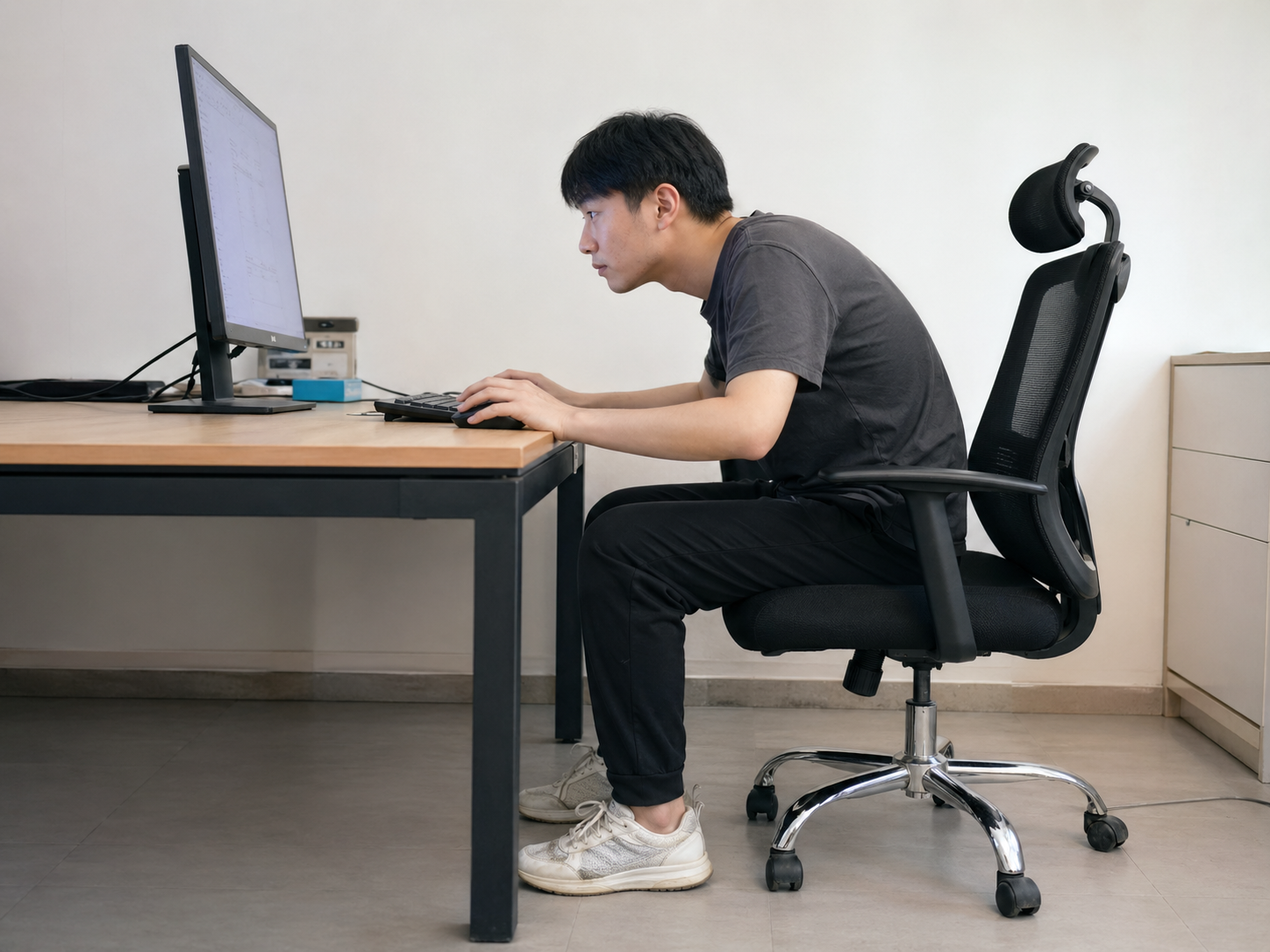sitting_bad: (485, 103, 986, 899)
